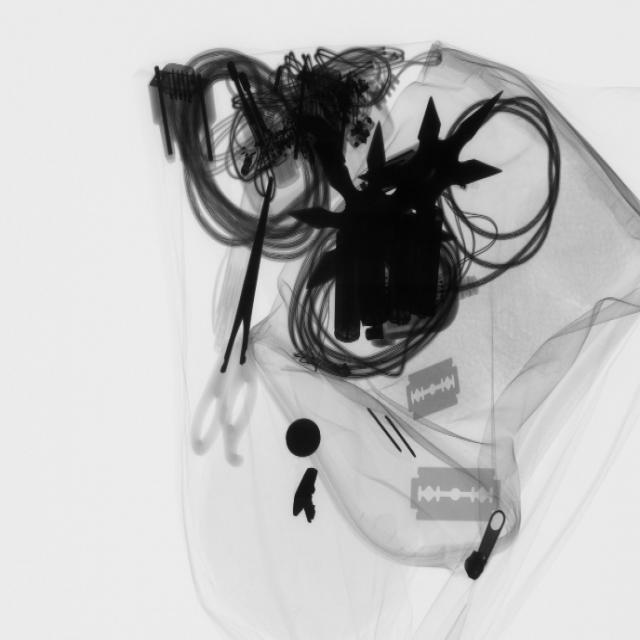BLADE: (403, 457, 510, 534), (403, 354, 466, 426)
SHURIKEN: (298, 110, 430, 321), (395, 95, 499, 268)
